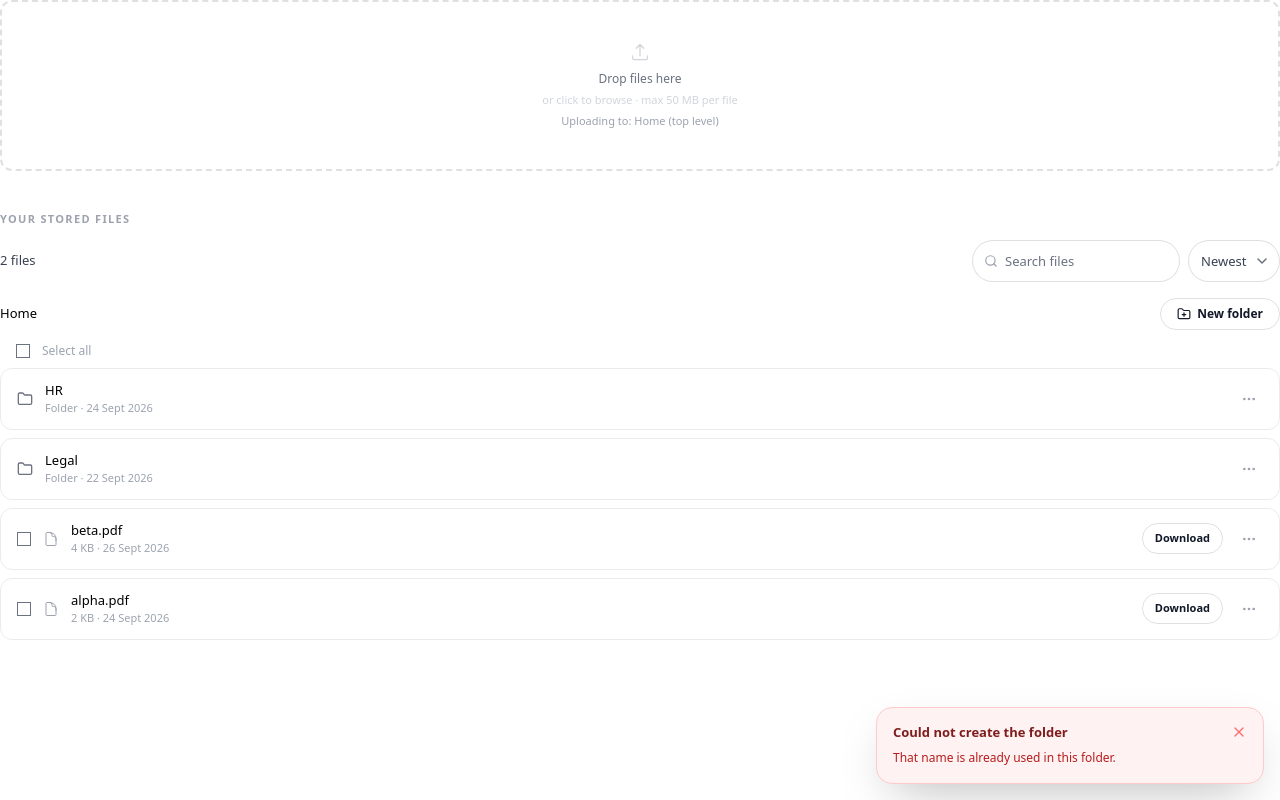
Test: FileBrowser › renames a folder
Expected: the text "alpha.pdf" is shown, [71,590,129,608]
Click the button named "Actions for HR": {"x": 1249, "y": 398} [1235,384,1263,412]
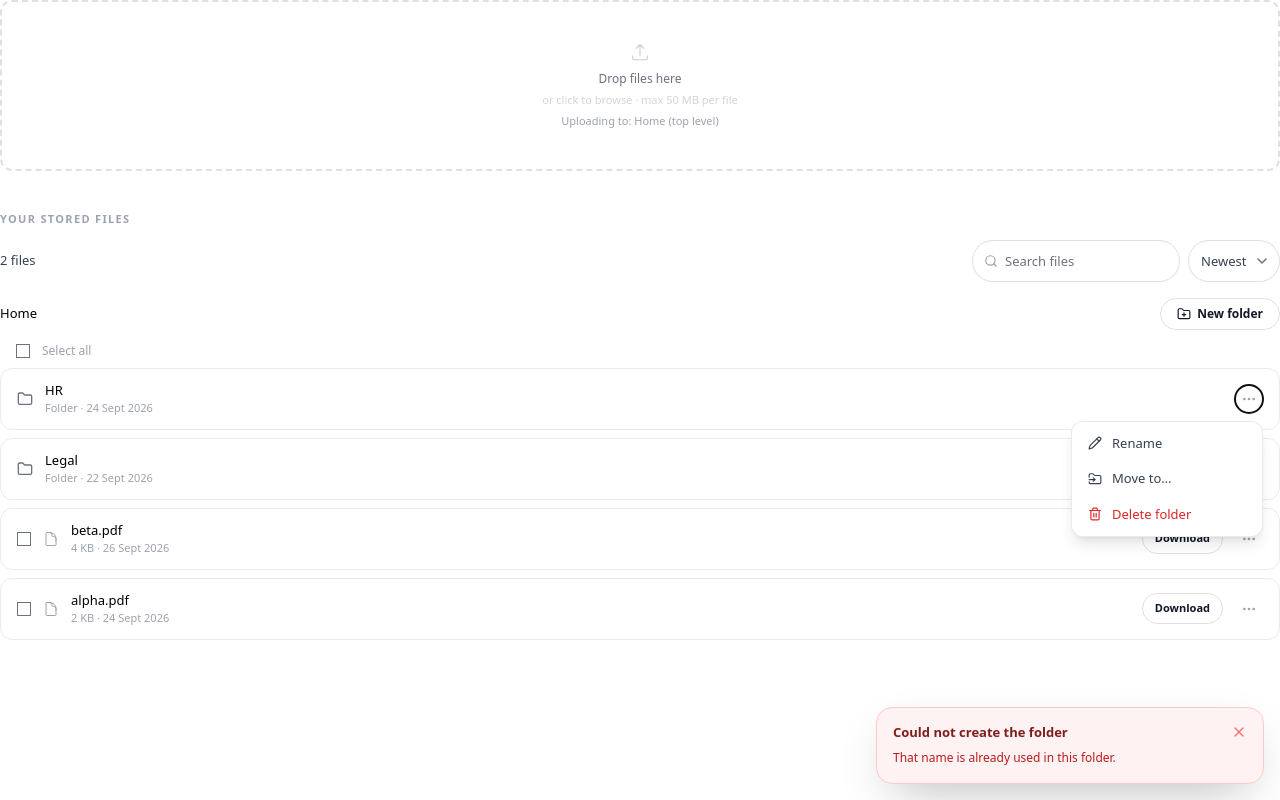
Click the menu item "Rename": {"x": 1167, "y": 443} [1076,426,1258,461]
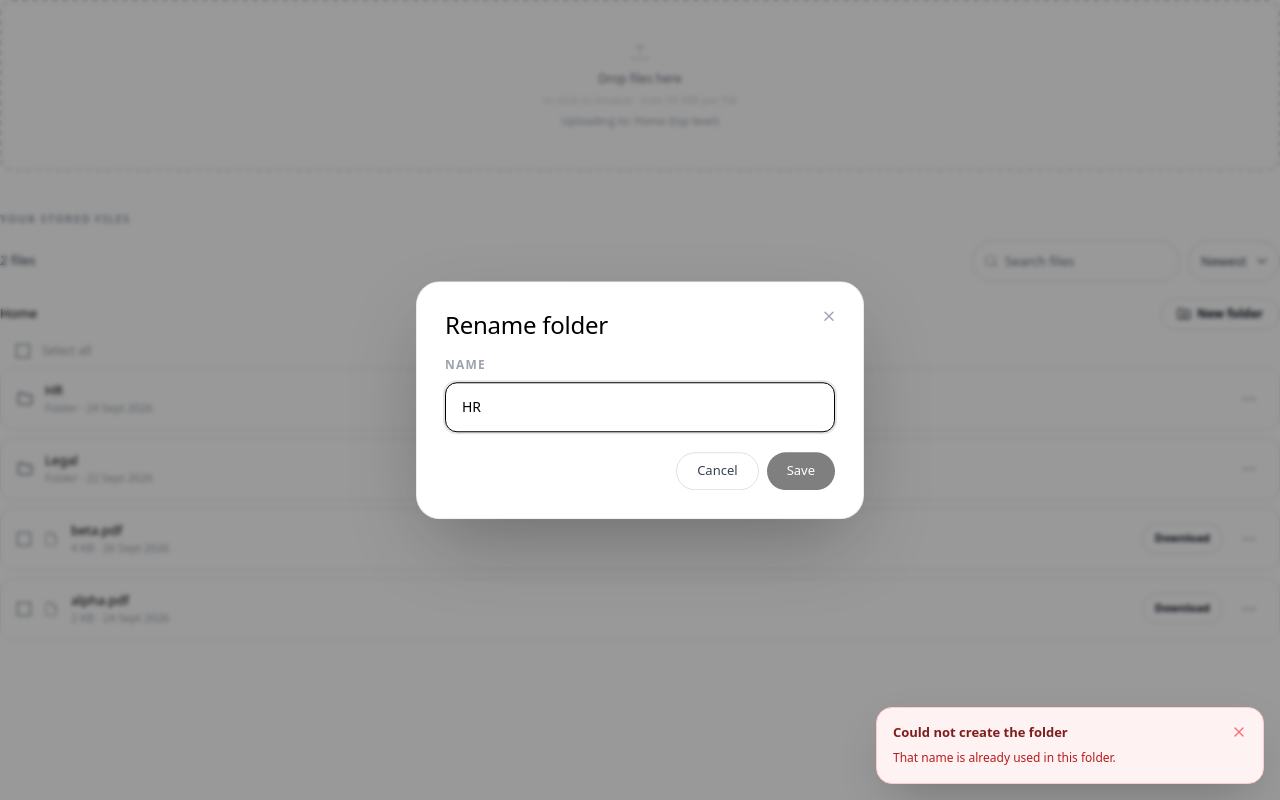
Replace the text in the field labelled "Name" with "People": {"x": 640, "y": 407} [445,382,835,432]
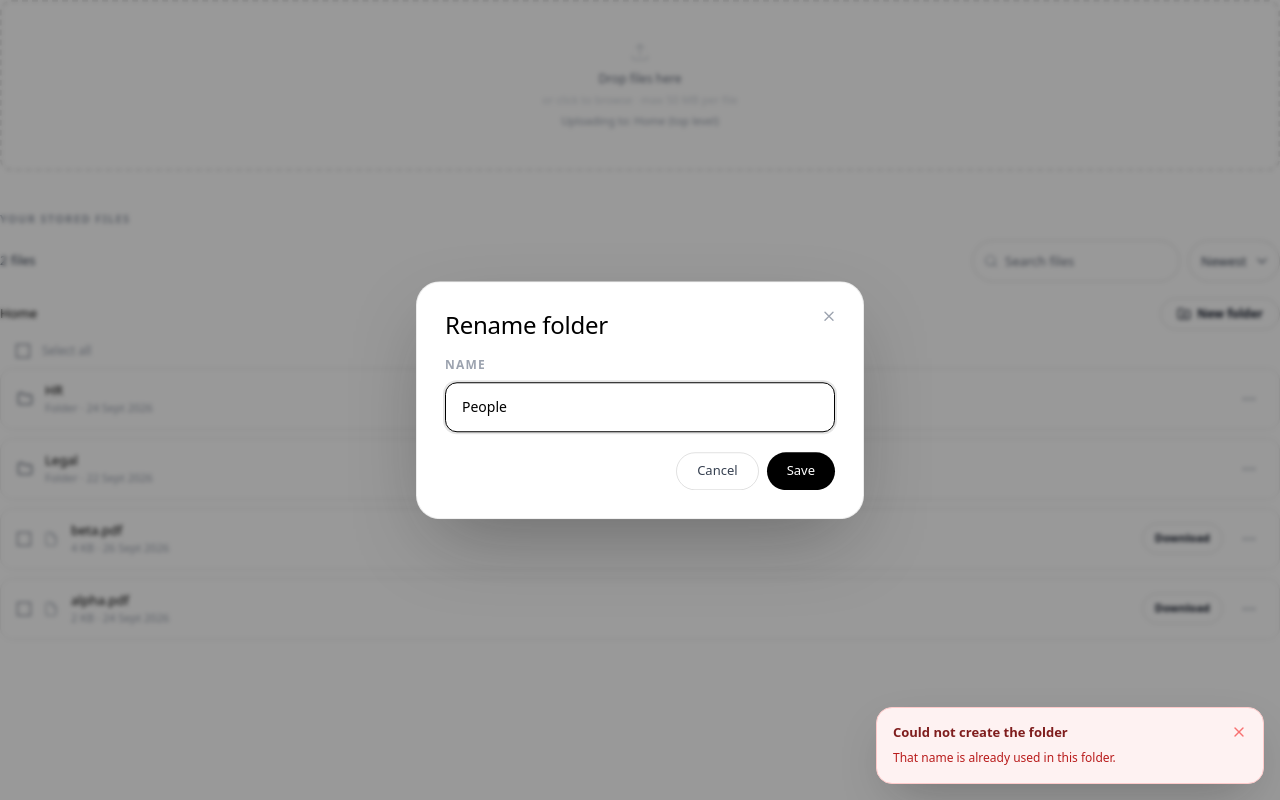
Click the button "Save": {"x": 801, "y": 471} [767,452,835,490]
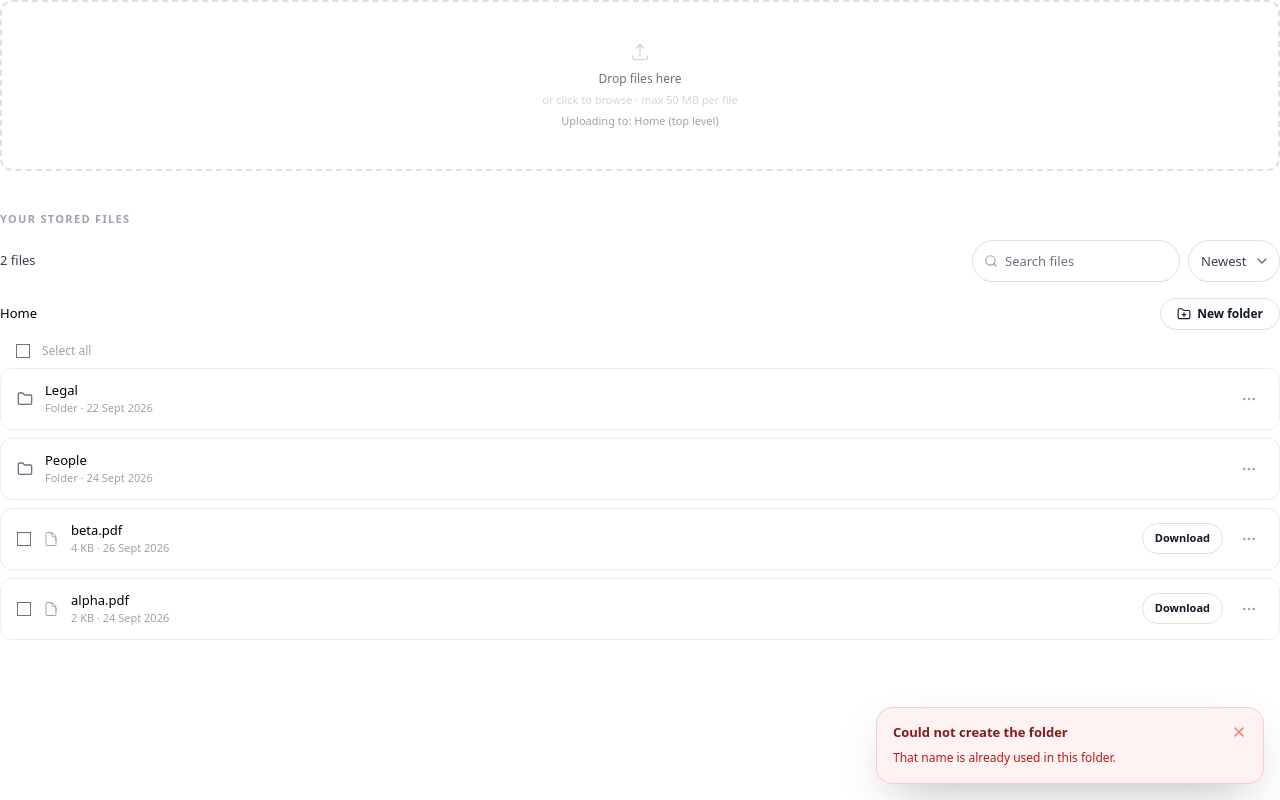
Now the button with aria-label "Open folder People" is shown, box [45,450,1223,486]
